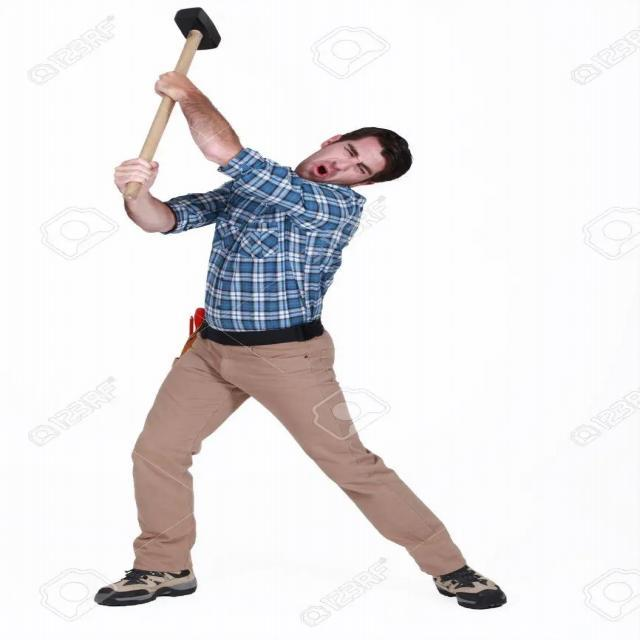hammer: (103, 0, 227, 218)
